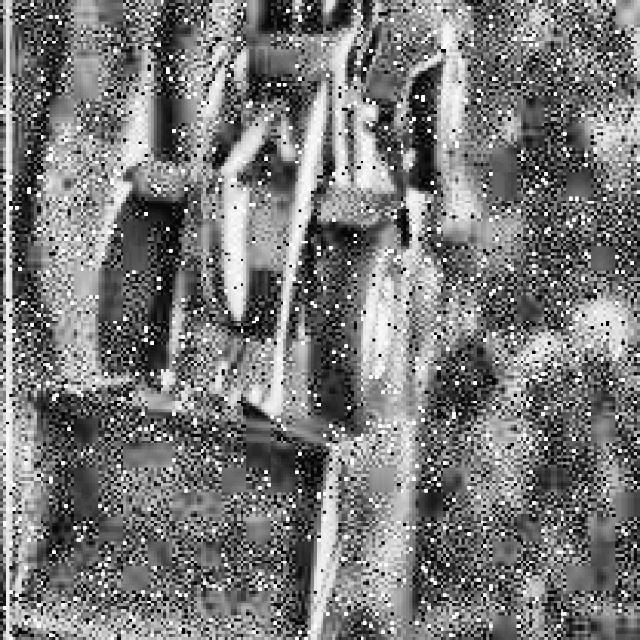buldozerpayloadergrader: (0, 0, 468, 640)
